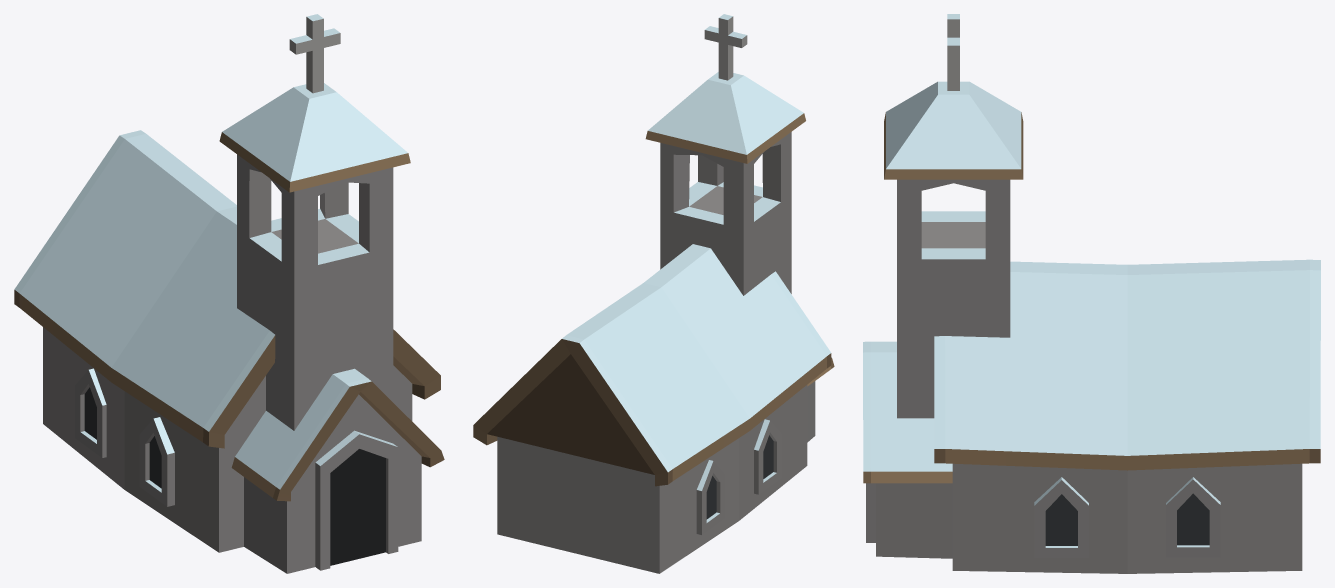
The model's file is SM_Bld_Knights_Church_01_Snow.glb.
3 renders of one model, left to right at view 1: azimuth 30°, elevation 25°; view 2: azimuth 150°, elevation 25°; view 3: azimuth 270°, elevation 25°, orthographic. The views are drawn at different scales.
Visible parts, largest first — view 1: SM_Bld_Knights_Church_01_Snow; view 2: SM_Bld_Knights_Church_01_Snow; view 3: SM_Bld_Knights_Church_01_Snow.
Part boxes in pixels (box(x1,y1,x2,y2)): SM_Bld_Knights_Church_01_Snow: box(14, 14, 444, 573); SM_Bld_Knights_Church_01_Snow: box(473, 14, 834, 573); SM_Bld_Knights_Church_01_Snow: box(863, 14, 1320, 573).
Size of the model in its own units: 0.8769 by 1.84 by 1.51.
1 material, 1 textured.
